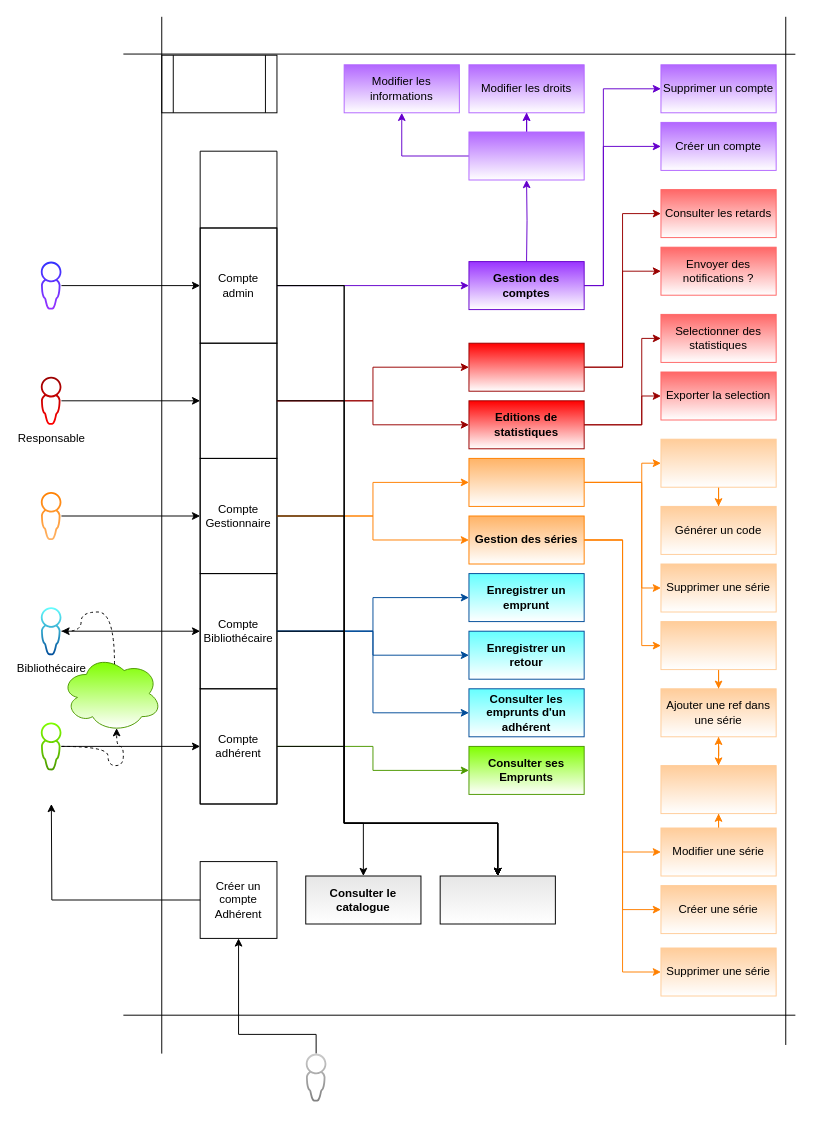
Image size: 813x1139. Some labels were removed from this diagram. Here are the shapes that lost their labels. From the top down, the box of each, then its label:
(161, 54, 277, 113): System
(468, 131, 584, 180): Modifier un compte
(40, 261, 61, 309): ADMIN
(468, 342, 584, 391): Gestion des retards
(199, 342, 277, 458): Compte Responsable
(199, 150, 277, 804): Acceder à son compte personnel
(468, 457, 584, 506): Gestion du stock
(660, 438, 776, 487): Ajouter une ref
(40, 492, 61, 540): Gestionnaire
(660, 621, 776, 670): Modifier une ref
(60, 654, 162, 732): Demande d'emprunt et retours
(40, 722, 61, 770): Adhérent
(660, 765, 776, 814): Ajouter une série dans une ref
(439, 875, 555, 924): Régénérer un MDP
(305, 1053, 326, 1101): Visiteur
